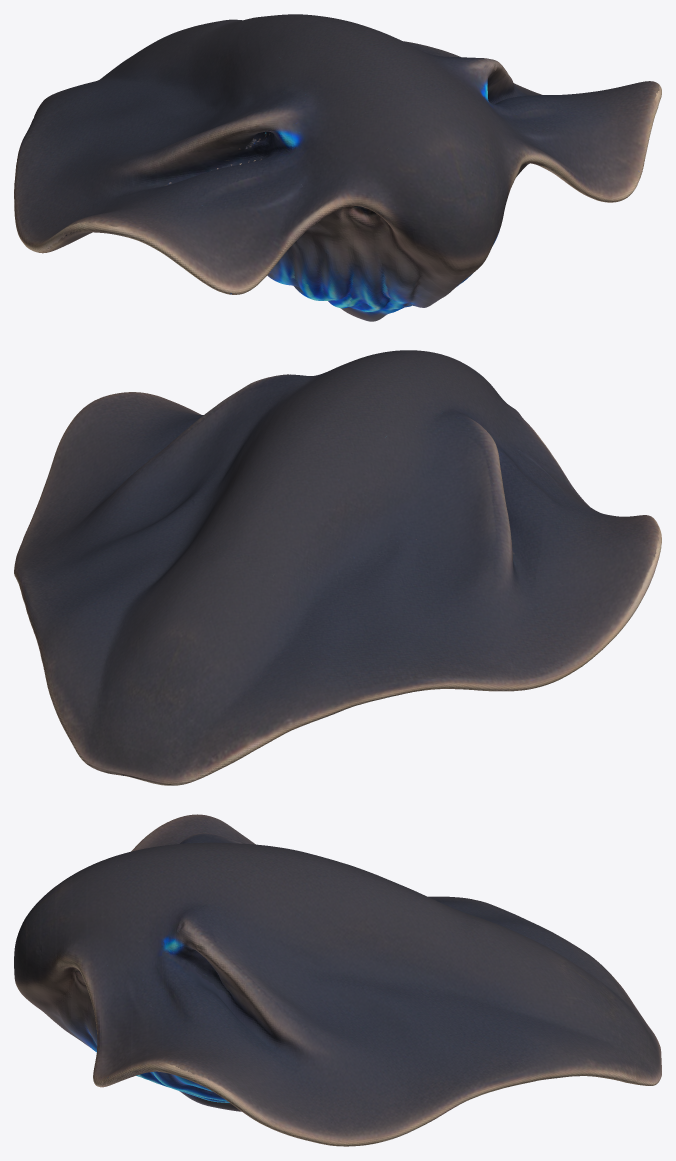
The model's file is ray_levitating.glb.
3 views of the same model, one above another, from view 1: azimuth 30°, elevation 25°; view 2: azimuth 150°, elevation 25°; view 3: azimuth 270°, elevation 25° (orthographic). The views are drawn at different scales.
Visible parts, largest first — view 1: tmp_fe1rh9a.ply; view 2: tmp_fe1rh9a.ply; view 3: tmp_fe1rh9a.ply.
Part boxes in pixels (<box>): tmp_fe1rh9a.ply: <box>14,14,661,321</box>; tmp_fe1rh9a.ply: <box>14,350,661,785</box>; tmp_fe1rh9a.ply: <box>14,814,661,1146</box>.
Bounding box in the file's own units: 1.96 × 0.8851 × 1.99.
Materials: 1 (1 with a texture image).
